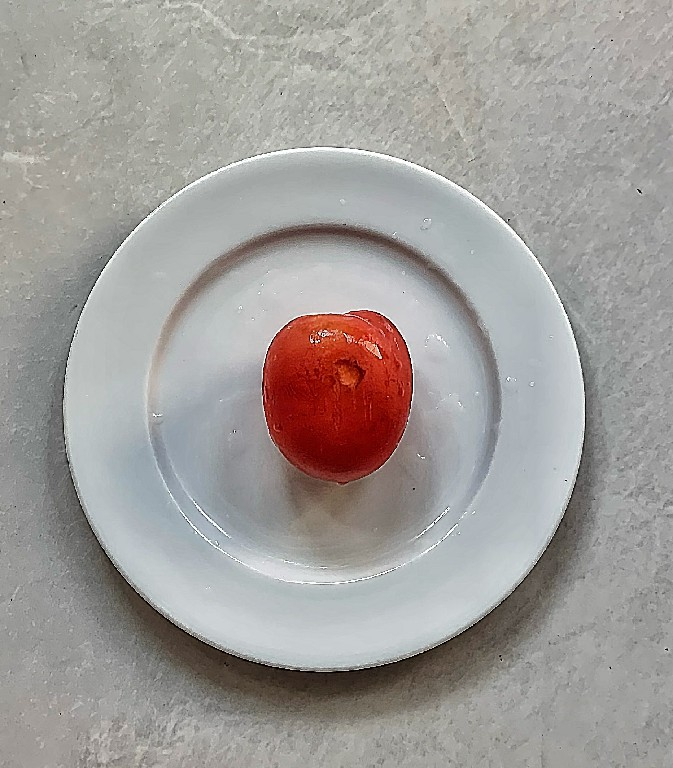NG: (263, 311, 411, 487)
